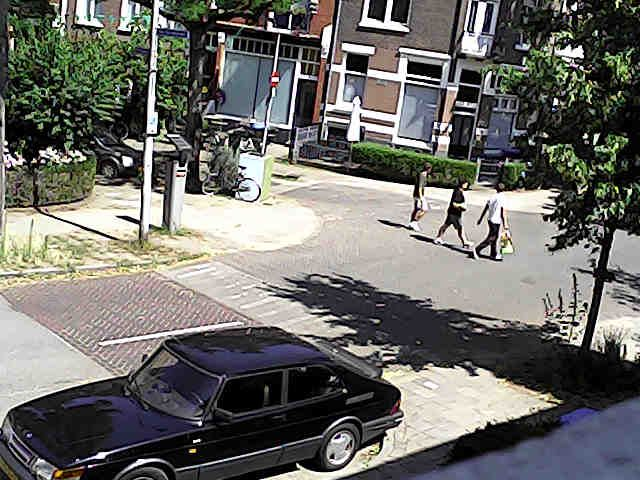male: (471, 183, 508, 260), (434, 178, 472, 247), (408, 162, 431, 230)
suv: (0, 327, 402, 479), (92, 130, 141, 178)
